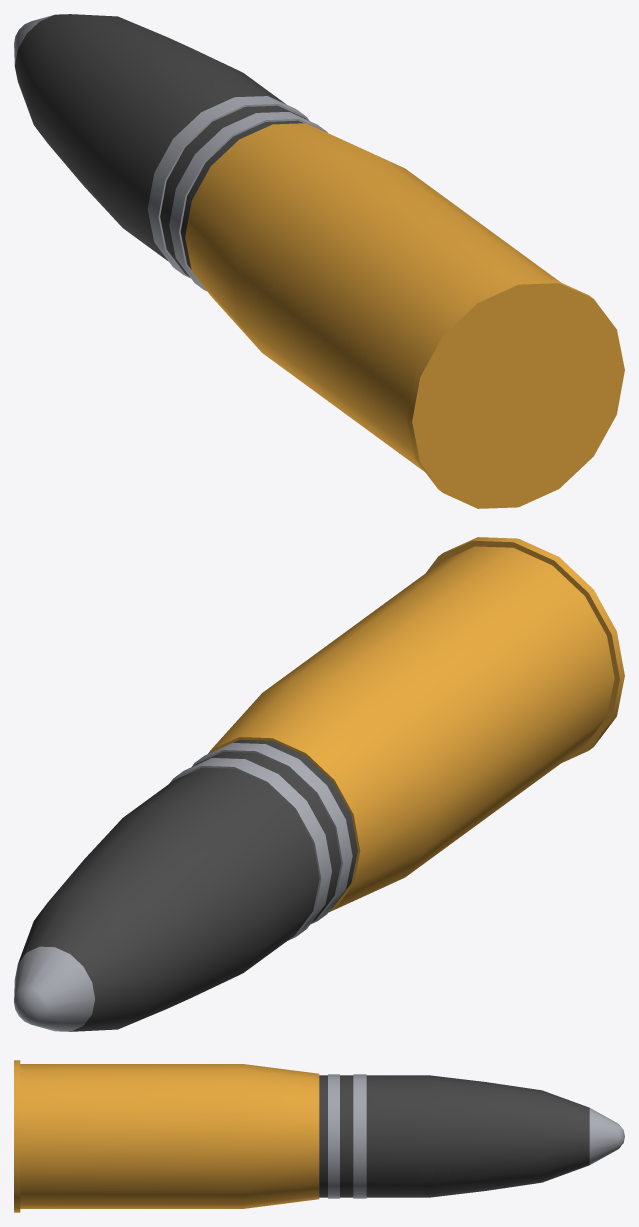
The model's file is ap_shell_88.fbx.
The picture shows the model from 3 angles, top to bottom: view 1: azimuth 30°, elevation 25°; view 2: azimuth 150°, elevation 25°; view 3: azimuth 270°, elevation 25°; orthographic projection. The views are drawn at different scales.
Parts seen in each view (by area): view 1: Bullet; view 2: Bullet; view 3: Bullet.
Part boxes in pixels (box(x1,y1,x2,y2)): Bullet: box(14, 14, 624, 508); Bullet: box(14, 537, 624, 1031); Bullet: box(14, 1060, 624, 1212).
Bounding box in the file's own units: 100 × 100 × 400.
